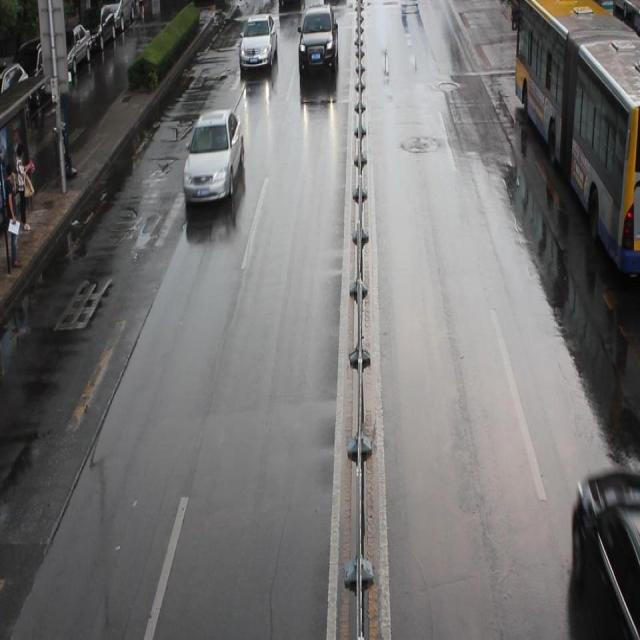car: (571, 468, 640, 640), (181, 110, 244, 203), (297, 9, 338, 81), (238, 12, 277, 73)
truck: (276, 1, 305, 17)
van: (513, 1, 640, 273)
